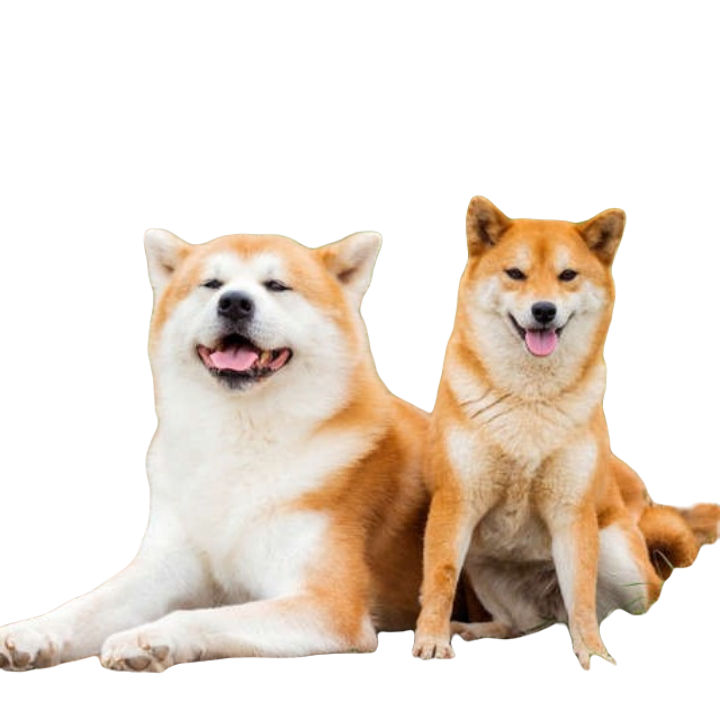Dog: (0, 223, 406, 674), (413, 175, 615, 670)
